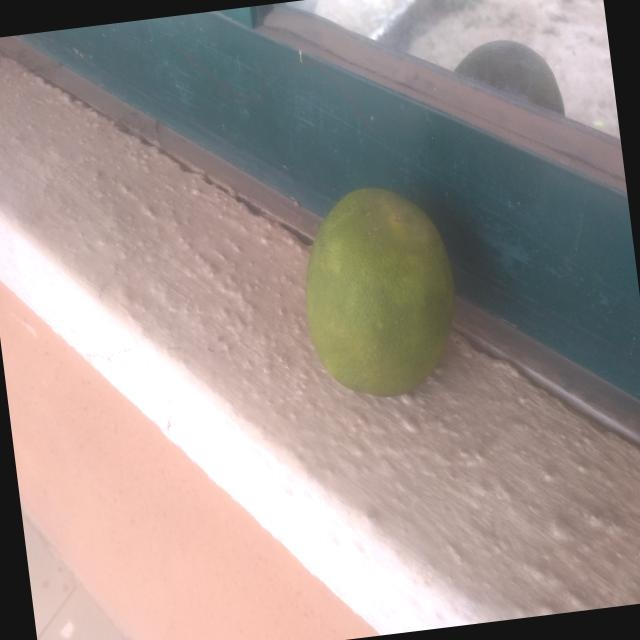agrume: (279, 164, 493, 436)
